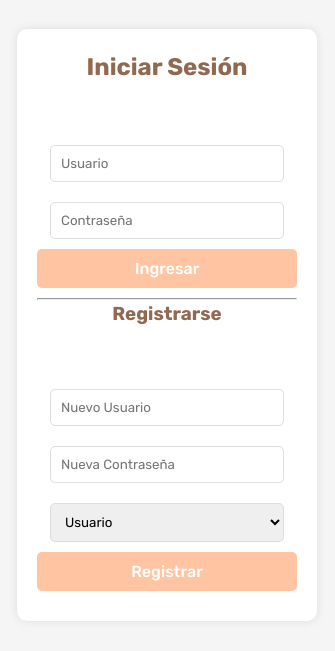
Test case: Componente Login › permite iniciar sesión con usuario existente y guarda en localStorage
The image size is (335, 651).
Type "maria" into the field with placeholder "Usuario" at (167, 164), box 50,146 -> 284,182
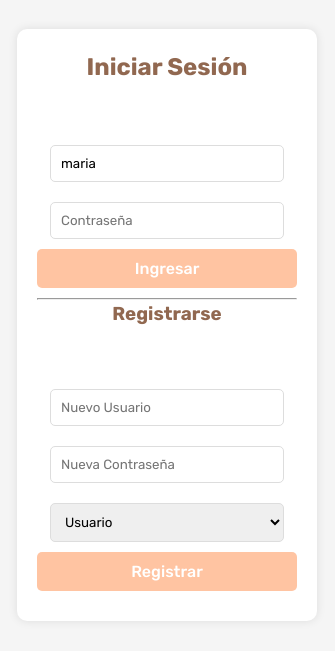
Type "abcd" into the password field with placeholder "Contraseña" at (167, 221), box 50,202 -> 284,240
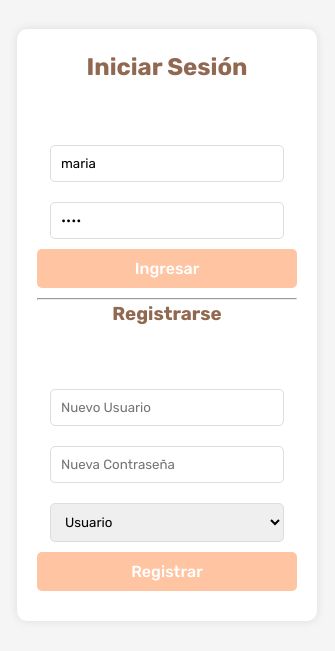
Click the button "Ingresar" at (167, 269), box 37,250 -> 297,288
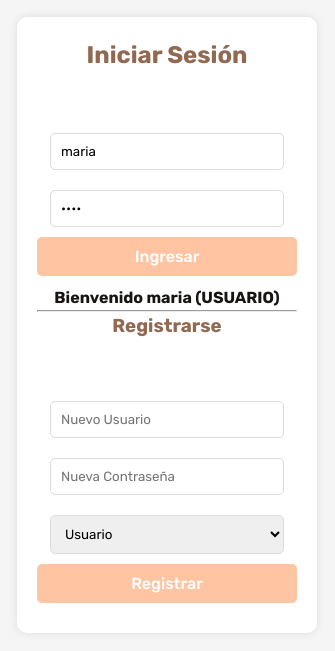
Now the text "Bienvenido maria (USUARIO)" is shown, box 37,286 -> 297,310
